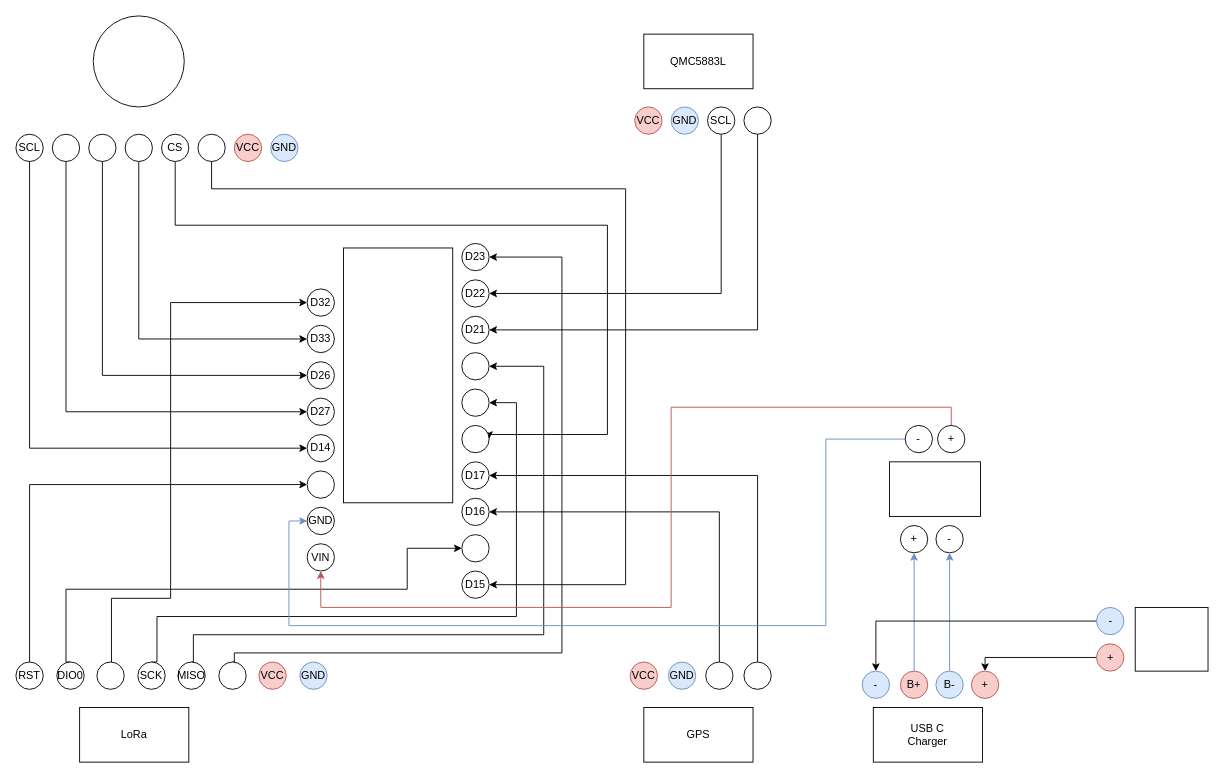
This 1224x778 diagram has some shape labels left out. Each missing label, with the centre of its shape:
"Battery" goes at (x=1171, y=639).
"BLK" goes at (x=102, y=147).
"D12" goes at (x=320, y=484).
"D18" goes at (x=475, y=402).
"D19" goes at (x=475, y=366).
"D2" goes at (x=475, y=548).
"D5" goes at (x=475, y=439).
"DC" goes at (x=65, y=147).
"Display" goes at (x=138, y=61).
"ESP32" goes at (x=398, y=375).
"MOSI" goes at (x=232, y=675).
"NSS" goes at (x=110, y=675).
"RES" goes at (x=138, y=147).
"RX" goes at (x=757, y=675).
"SDA" goes at (x=757, y=120).
"SPA" goes at (x=211, y=147).
"Transformer 5V" goes at (x=935, y=488).
"TX" goes at (x=719, y=675).
